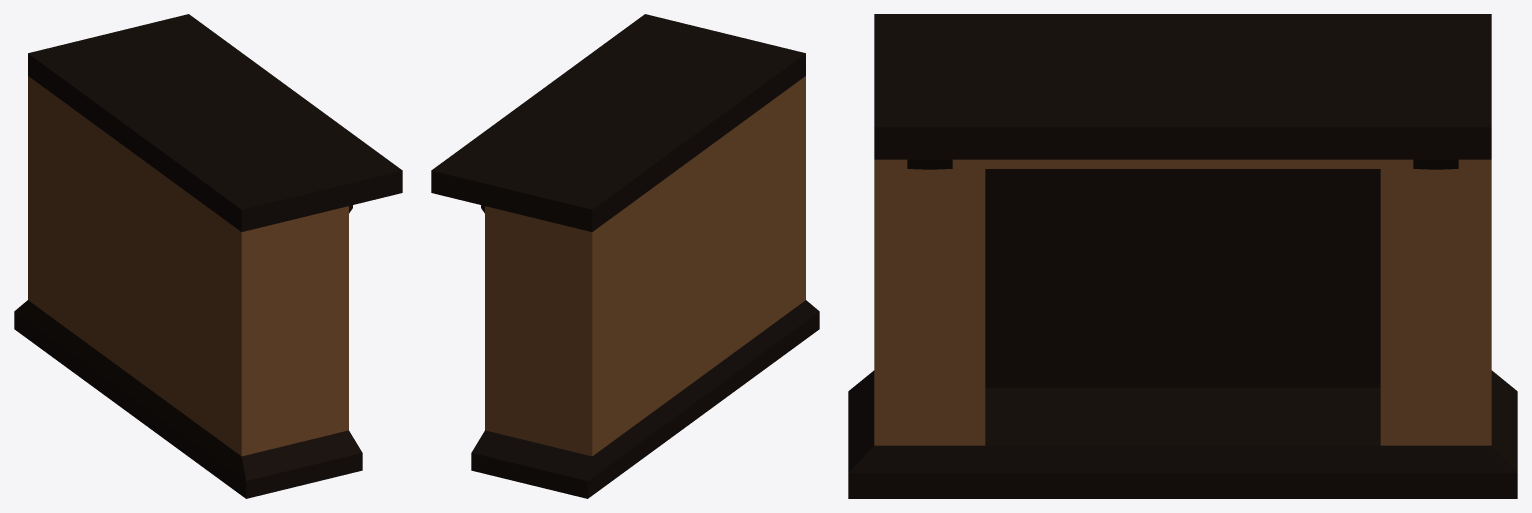
The model's file is kamna.obj.
3 renders of one model, left to right at view 1: azimuth 30°, elevation 25°; view 2: azimuth 150°, elevation 25°; view 3: azimuth 270°, elevation 25°, orthographic. The views are drawn at different scales.
Visible parts, largest first — view 1: Cube; view 2: Cube; view 3: Cube.
Part boxes in pixels (<box>): Cube: <box>14,14,402,498</box>; Cube: <box>431,14,819,498</box>; Cube: <box>848,14,1517,498</box>.
Size of the model in its own units: 3.56 by 5.78 by 8.63.
